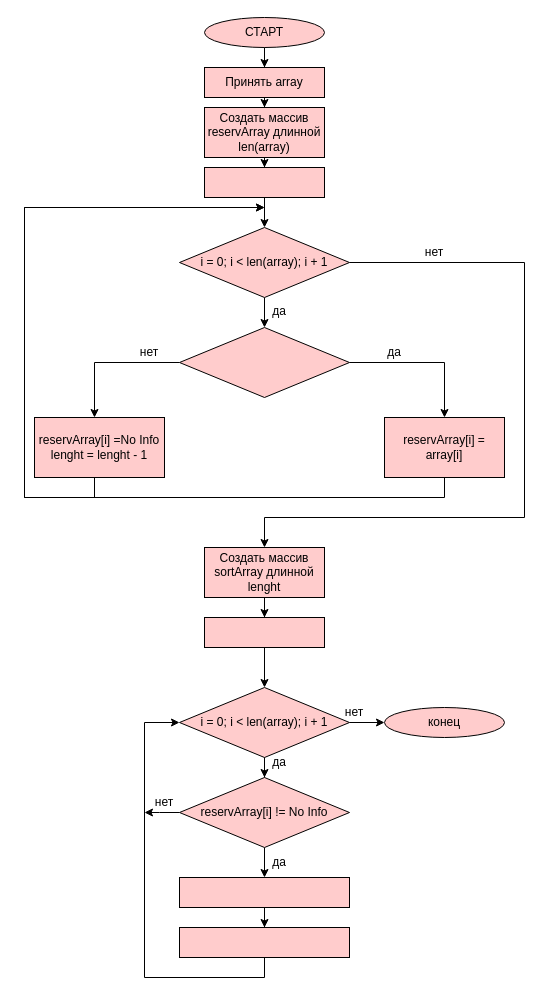
Image size: 550x1003. Some labels were removed from this diagram. The shapes that lost their labels are listed below. From the top down, each one's box as (x1, y1, x2, y2) in pixels, then its label:
(204, 166, 324, 198): lenght = len(array)
(178, 326, 350, 398): длина array[i] < 4
(204, 616, 324, 648): sortId = 0
(178, 876, 350, 908): sortArray[sortId] = reservArray[i]
(178, 926, 350, 958): sortId = sortId + 1
